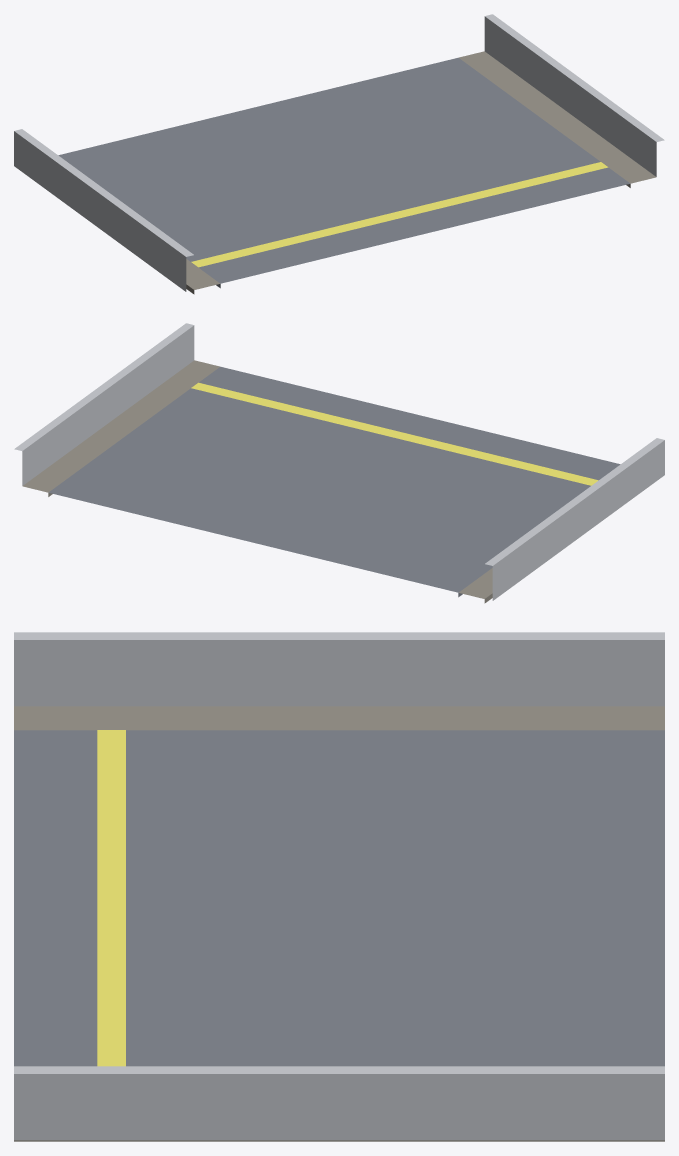
The model's file is track_start_v1.glb.
3 renders of one model, top to bottom at view 1: azimuth 30°, elevation 25°; view 2: azimuth 150°, elevation 25°; view 3: azimuth 270°, elevation 25°, orthographic. The views are drawn at different scales.
Visible parts, largest first — view 1: ROAD, RAIL_L, RAIL_R, SHOULDER_R, MARKER, SHOULDER_L; view 2: ROAD, RAIL_L, RAIL_R, SHOULDER_R, MARKER, SHOULDER_L; view 3: ROAD, RAIL_L, RAIL_R, SHOULDER_L, MARKER, SHOULDER_R.
Part boxes in pixels (x1,y1,x2,y2): ROAD: [58, 57, 630, 288]; RAIL_L: [14, 129, 193, 291]; RAIL_R: [484, 14, 664, 176]; SHOULDER_R: [459, 51, 656, 187]; MARKER: [191, 162, 608, 267]; SHOULDER_L: [186, 259, 219, 294]; ROAD: [48, 366, 620, 597]; RAIL_L: [485, 438, 664, 600]; RAIL_R: [14, 323, 194, 485]; SHOULDER_R: [22, 360, 219, 496]; MARKER: [191, 382, 598, 485]; SHOULDER_L: [459, 568, 492, 603]; ROAD: [14, 730, 664, 1066]; RAIL_L: [14, 632, 664, 706]; RAIL_R: [14, 1066, 664, 1140]; SHOULDER_L: [14, 706, 664, 730]; MARKER: [97, 730, 125, 1066]; SHOULDER_R: [14, 1140, 664, 1141].
Bounding box in the file's own units: 12.84 × 1.02 × 8.
